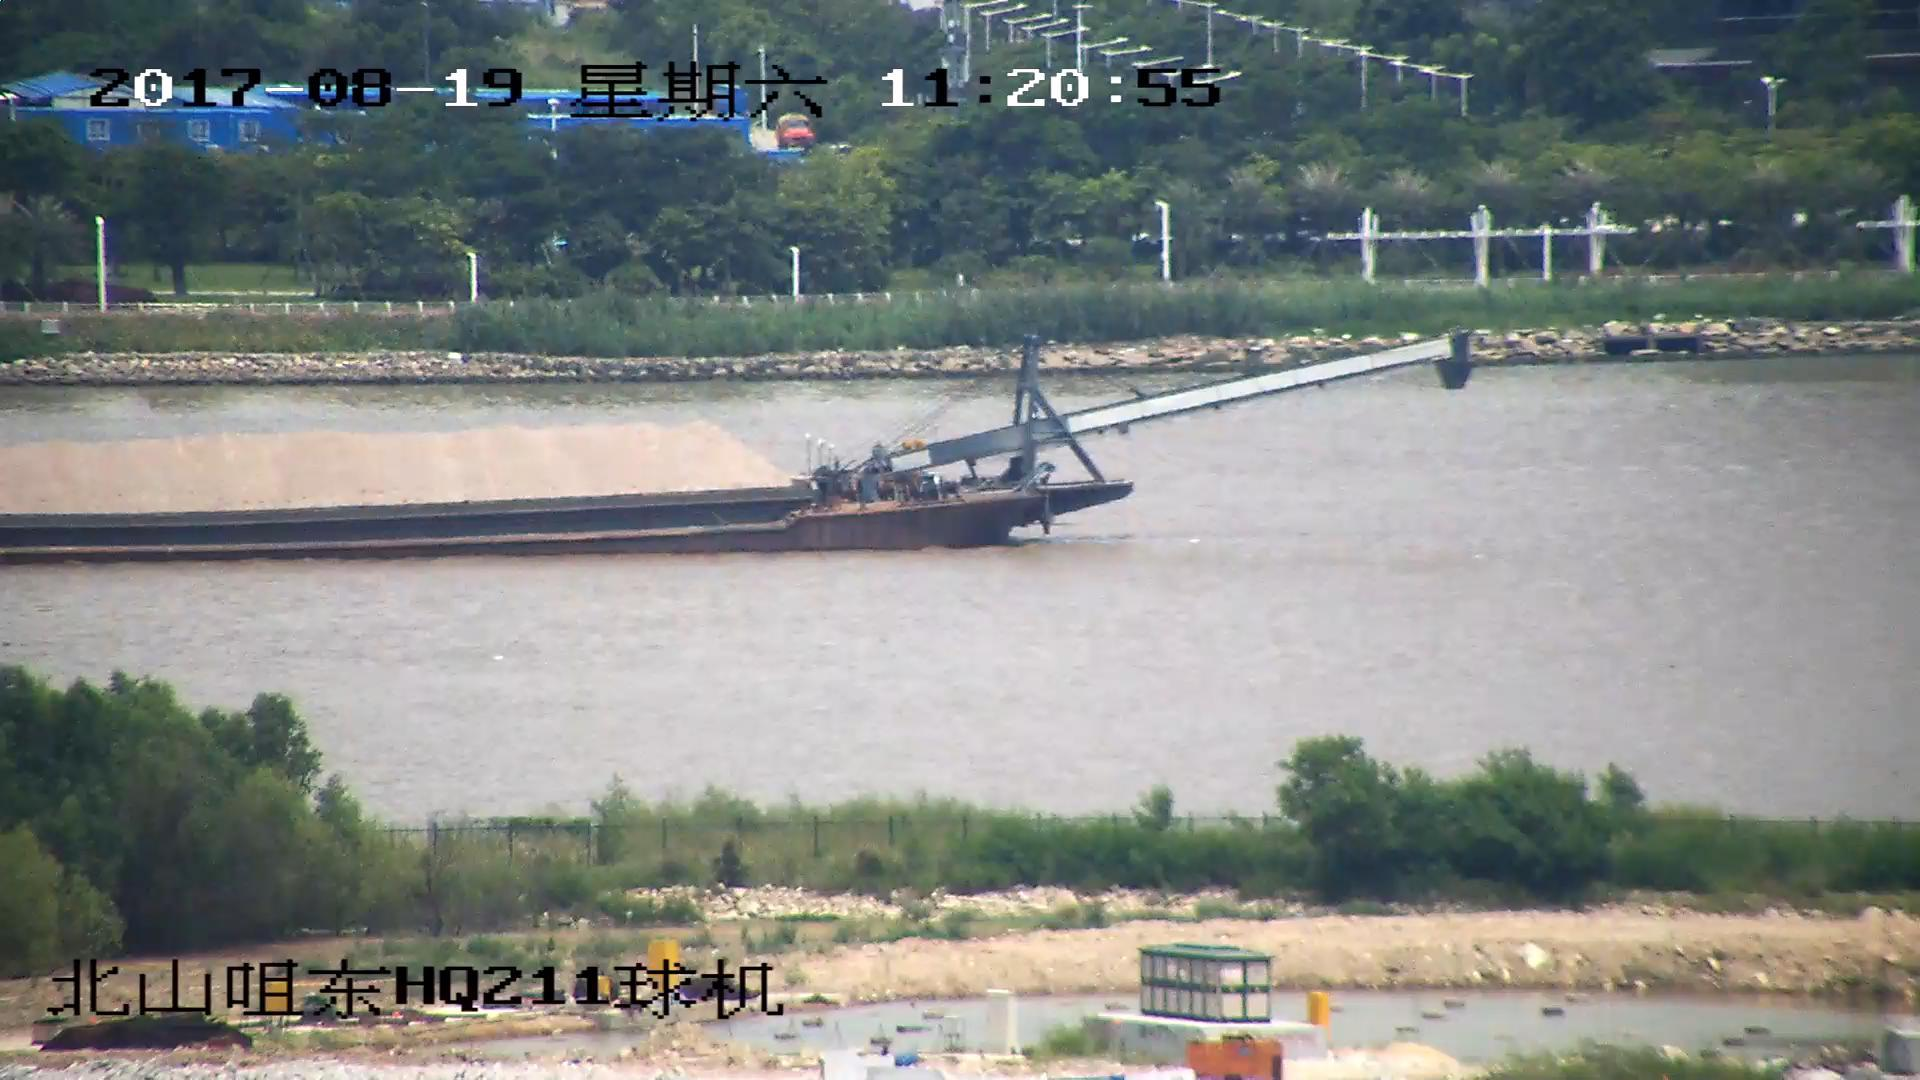Ship: (3, 334, 1466, 564)
